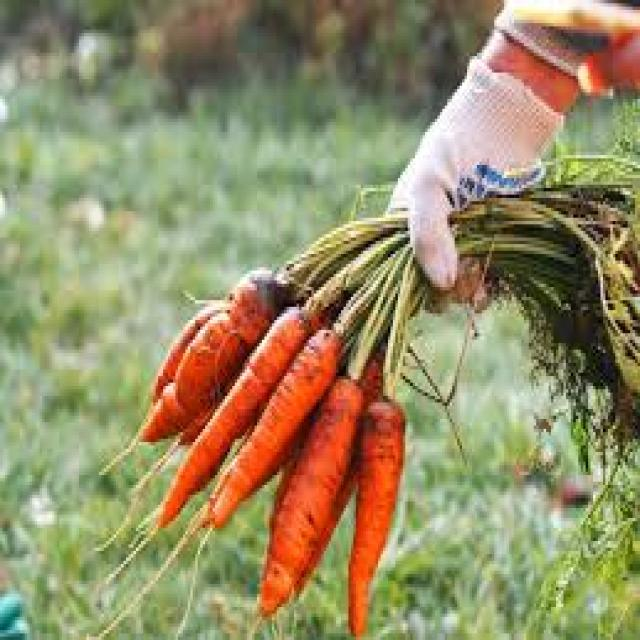Stale_Carrot: (135, 285, 306, 406), (346, 386, 407, 628)
